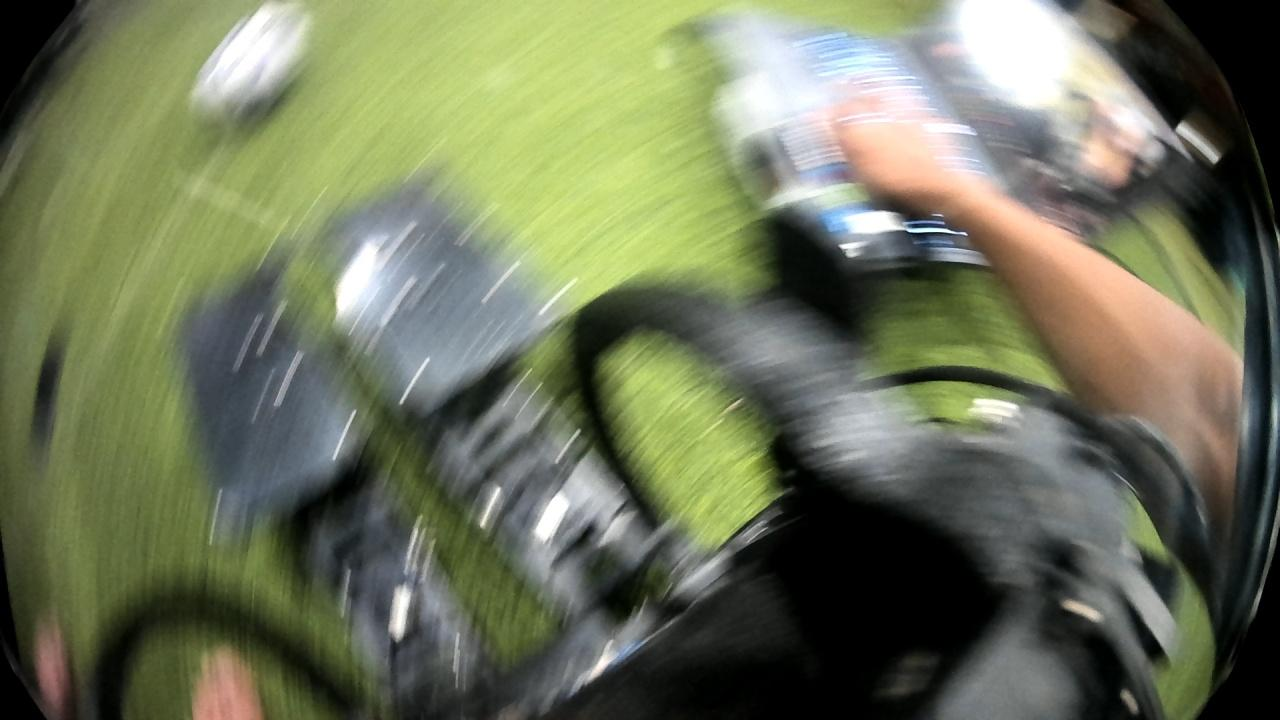ball: (189, 0, 327, 146)
